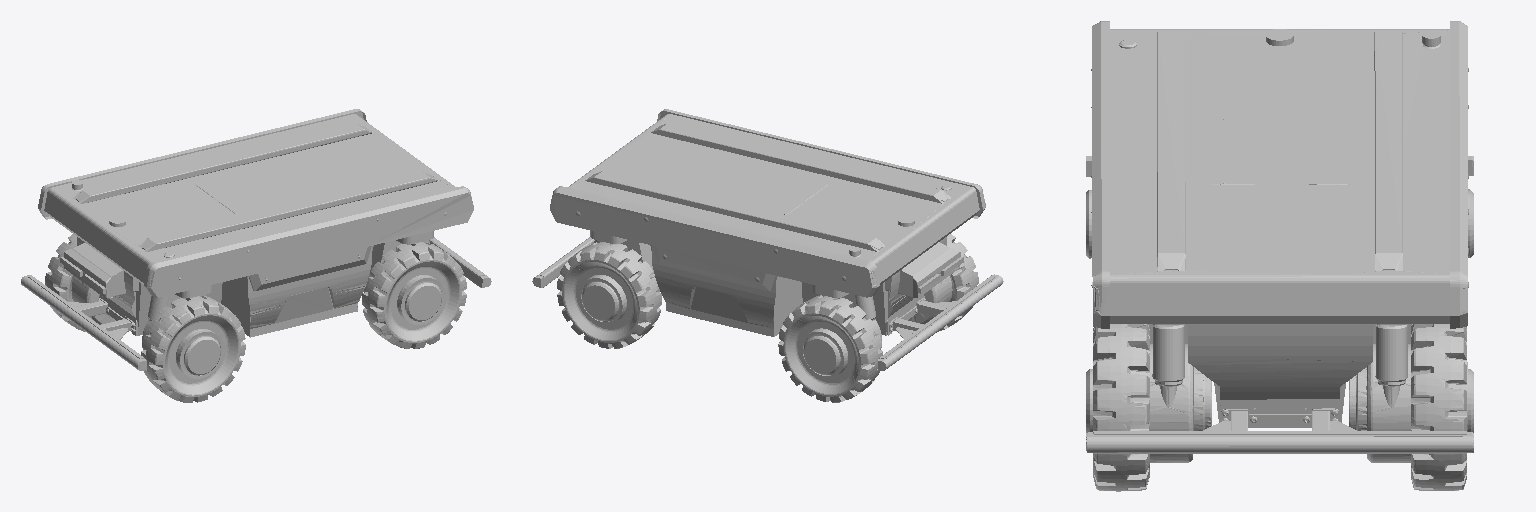
robot.urdf — yhs_chassis_description:
<robot name="yhs_chassis_description">
  <link name="base_link">
    <visual>
      <origin
        xyz="0.45 0.28 -0.02"
        rpy="1.57 0 -1.57" />
      <geometry>
        <mesh
          filename="package://yhs_chassis_description/meshes/FW-max.STL"/>
      </geometry>
      <material
        name="">
        <color
          rgba="0.8 0.8 0.8 1" />
      </material>
    </visual>
  </link>
</robot>

--- Facts derived from the render (not from the file) ---
The picture shows the robot from 3 angles, left to right: view 1: azimuth 30°, elevation 25°; view 2: azimuth 150°, elevation 25°; view 3: azimuth 270°, elevation 25°; orthographic projection.
Robot: yhs_chassis_description — 1 links, 0 joints (none); root link base_link; default pose: all joints at 0.
Visible links, largest first — view 1: base_link; view 2: base_link; view 3: base_link.
Boxes of the visible links, x1,y1,x2,y2 form: base_link: (21,109,491,402); base_link: (532,109,1003,402); base_link: (1086,21,1473,491).
Bounding box of the posed robot: 0.9604 × 0.5508 × 0.3935 m (x, y, z).
Meshes: 1 distinct files referenced, 1 mesh visuals loaded (1 binary STL).
